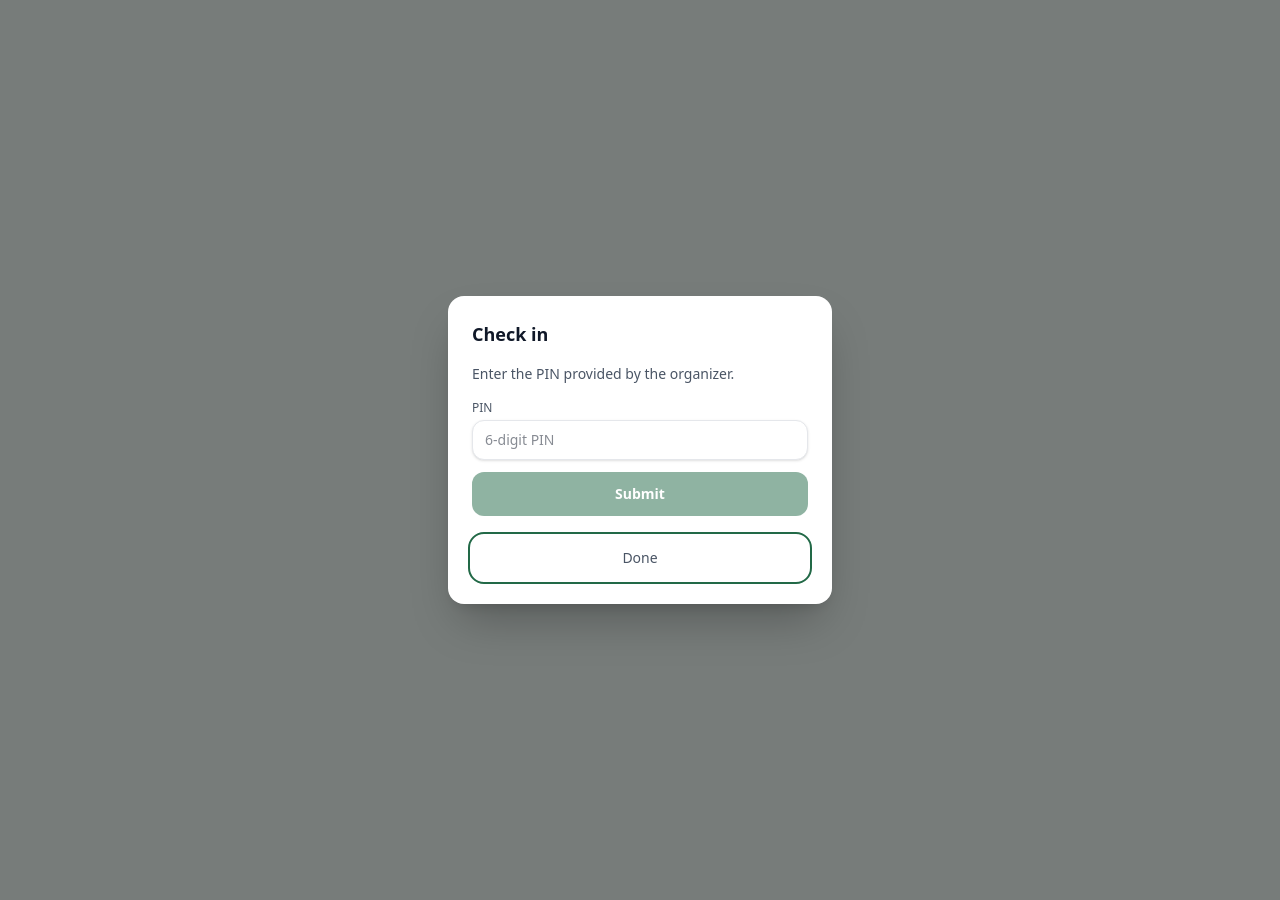
CheckInModal a11y › has no violations when the entered PIN was rejected
Type "123456" into the field labelled "PIN".
click(640, 440); type("123456")  # box [472,420,808,460]
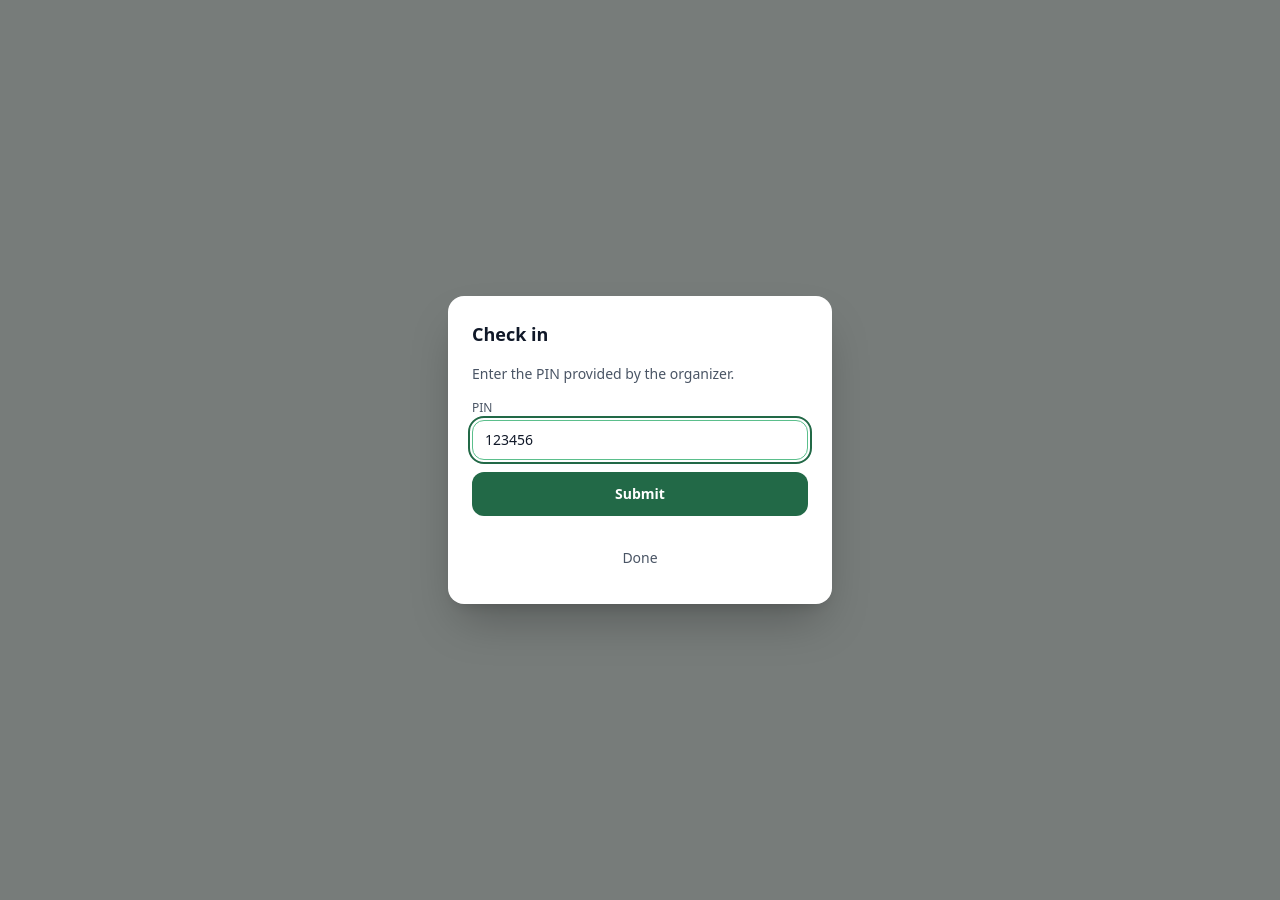
Click the button "Submit".
click(640, 494)  # box [472,472,808,516]
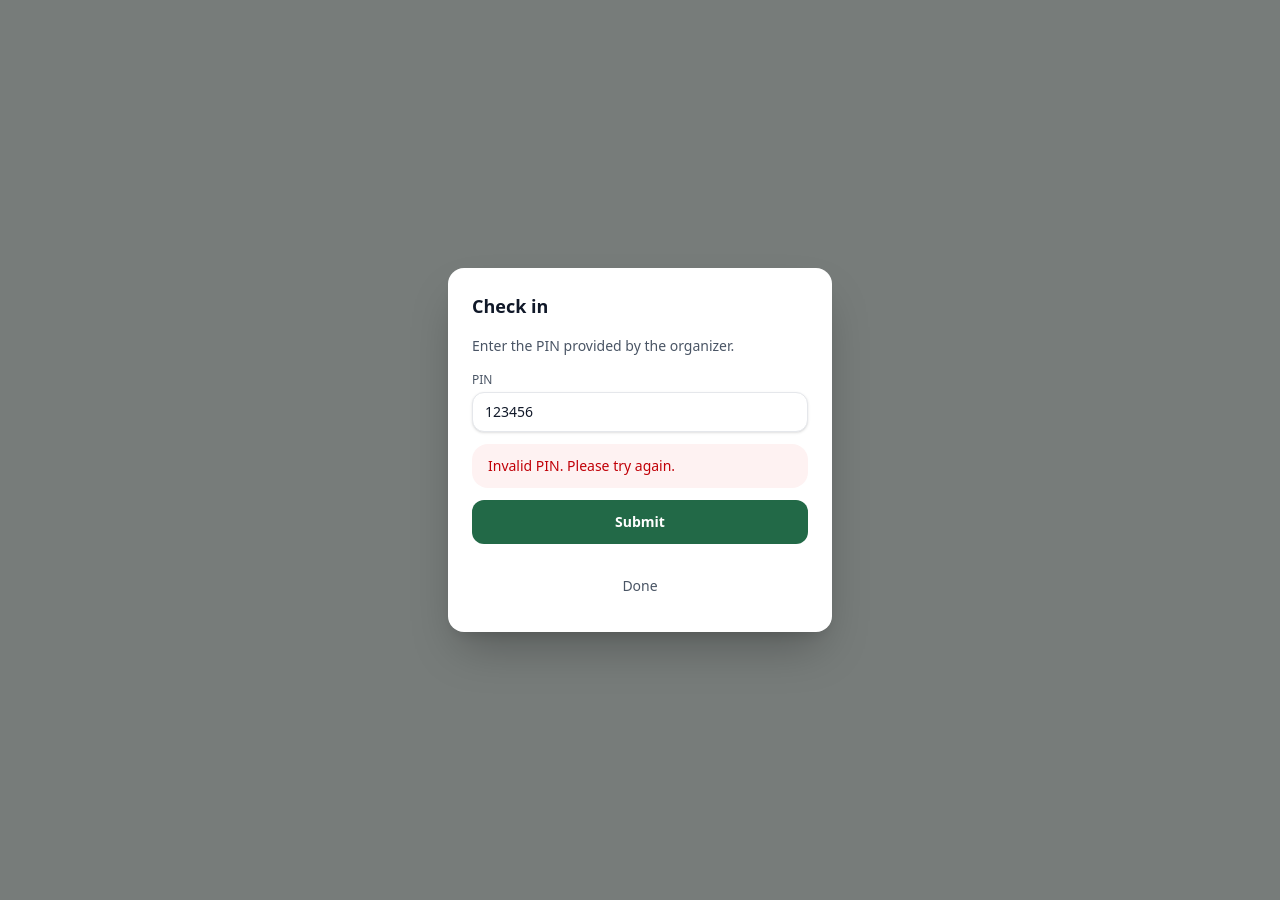
Result: the message "Invalid PIN. Please try again." is shown at [472,444,808,488]
